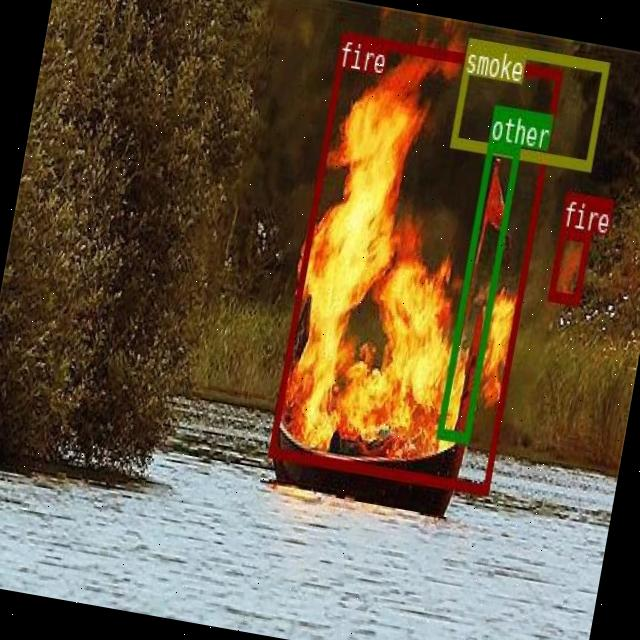fire: (266, 29, 562, 493), (548, 226, 590, 302)
smoke: (450, 38, 608, 168)
